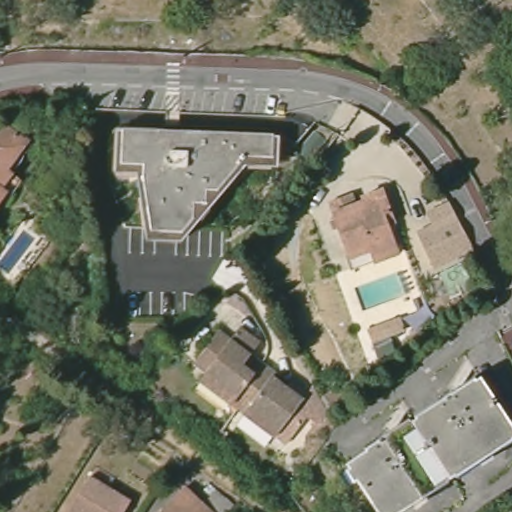pool: (348, 261, 413, 314), (1, 223, 41, 278)
